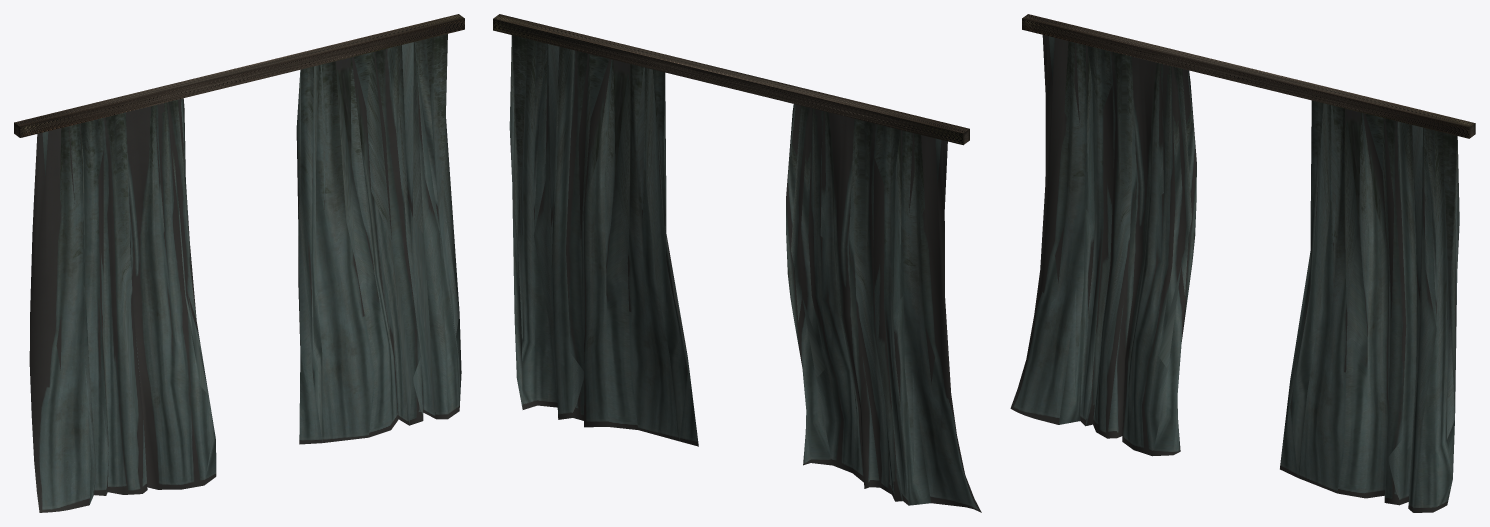
File: cortinas.fbx
3 renders of one model, left to right at view 1: azimuth 30°, elevation 25°; view 2: azimuth 150°, elevation 25°; view 3: azimuth 330°, elevation 25°, orthographic. The views are drawn at different scales.
Visible parts, largest first — view 1: Plane.002, Plane.003, Cube.001; view 2: Plane.003, Plane.002, Cube.001; view 3: Plane.003, Plane.002, Cube.001.
Part boxes in pixels (x1,y1,x2,y2): Plane.002: [29, 98, 216, 512]; Plane.003: [296, 34, 461, 444]; Cube.001: [14, 14, 464, 137]; Plane.003: [509, 35, 698, 446]; Plane.002: [786, 104, 981, 512]; Cube.001: [493, 14, 969, 145]; Plane.003: [1280, 100, 1459, 512]; Plane.002: [1010, 35, 1196, 456]; Cube.001: [1022, 14, 1475, 138].
Bounding box in the file's own units: 5.03 × 4.1 × 0.6753.
2 materials, 2 textured.
